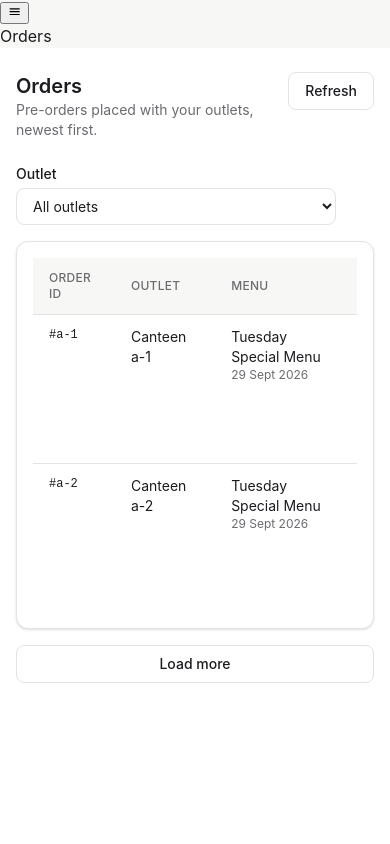
Test: OrganizationOrdersPage › pagination › loads the next page with the backend's cursor and appends it
This screenshot has width=390, height=844.
Click the button "Load more".
click(195, 664)  # box [16,645,374,683]
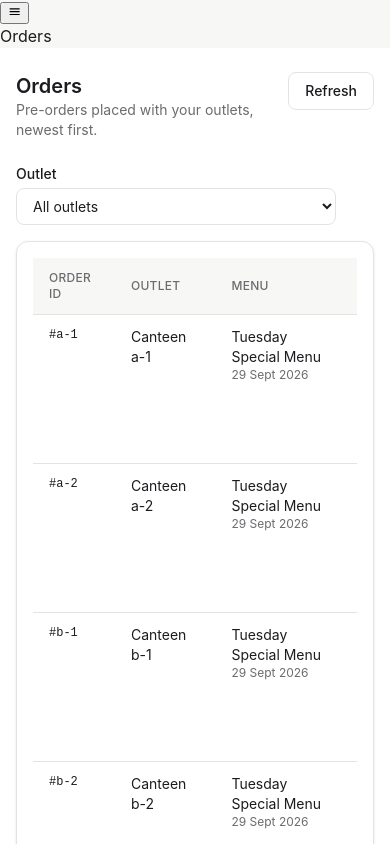
Result: the button "Load more" is gone
